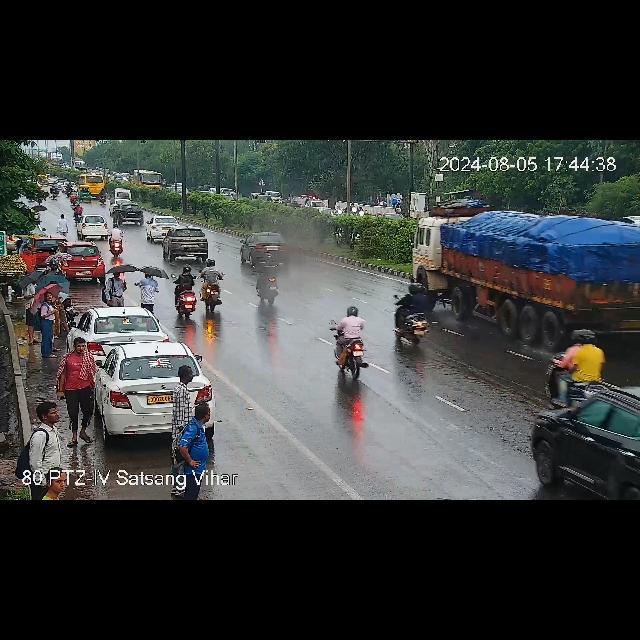bus: (128, 172, 164, 190)
car: (526, 390, 638, 500), (100, 342, 208, 440), (82, 308, 170, 342), (242, 234, 290, 268), (59, 245, 104, 279), (166, 227, 208, 261), (255, 251, 279, 303), (74, 215, 110, 238), (111, 205, 145, 227), (79, 173, 109, 190), (149, 216, 181, 228), (109, 188, 133, 202), (78, 184, 94, 200)
motorcycle: (546, 332, 616, 401), (173, 260, 229, 318), (330, 306, 370, 378), (390, 284, 436, 346), (70, 189, 78, 203)
person: (68, 332, 92, 438), (182, 402, 214, 466), (31, 401, 68, 455), (175, 361, 197, 421), (134, 268, 162, 310), (40, 292, 56, 352), (23, 276, 37, 342), (104, 270, 132, 302), (34, 230, 68, 256), (56, 212, 70, 232), (22, 246, 34, 268)
truck: (416, 208, 640, 326)
